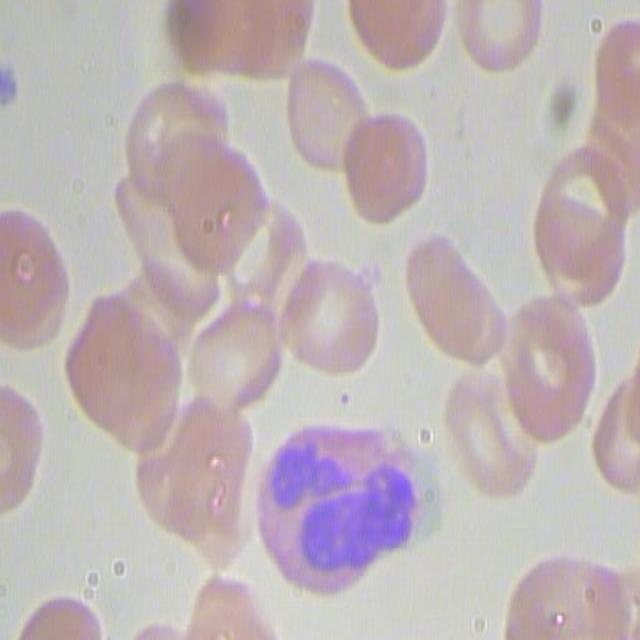RBC: (136, 398, 254, 560), (69, 294, 185, 453), (531, 142, 633, 310), (494, 288, 595, 440), (403, 230, 506, 370), (157, 131, 271, 255), (440, 358, 538, 500), (116, 175, 216, 310), (164, 0, 320, 85), (278, 258, 382, 381), (180, 299, 280, 420), (500, 552, 636, 640), (0, 201, 68, 360), (340, 105, 432, 222), (283, 59, 367, 174), (121, 86, 228, 170), (344, 0, 451, 71), (589, 10, 640, 145), (453, 0, 548, 72), (593, 367, 640, 496), (0, 375, 43, 513), (15, 593, 112, 640)
WBC: (255, 419, 427, 593)
platelets: (0, 53, 19, 121)
